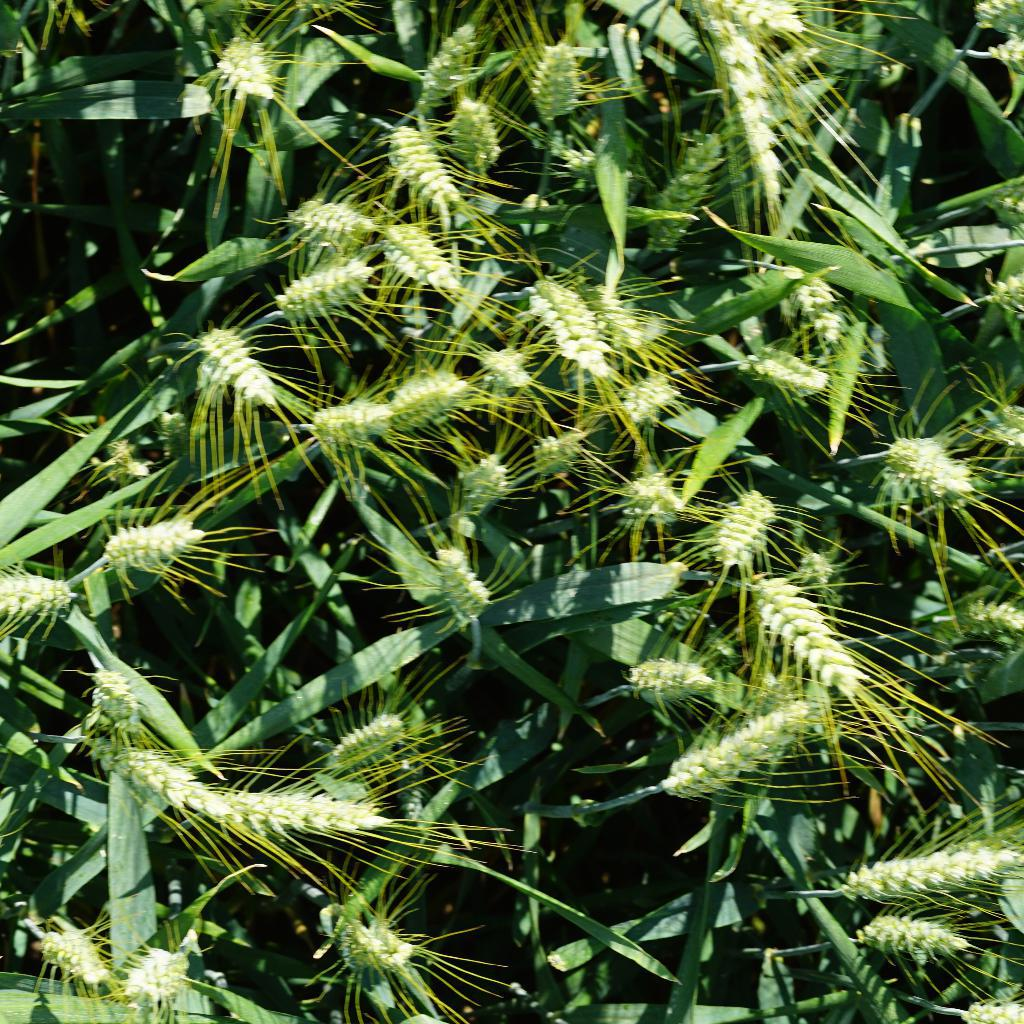0-0: (743, 568, 889, 713), (703, 14, 811, 210), (660, 691, 825, 806), (92, 729, 242, 829), (228, 783, 413, 848), (832, 841, 1024, 903), (637, 125, 729, 254), (382, 118, 479, 225), (190, 317, 286, 415), (372, 216, 475, 303), (838, 907, 991, 965), (94, 513, 225, 578), (202, 27, 290, 122), (526, 280, 612, 377), (258, 253, 385, 318), (325, 697, 425, 773), (885, 432, 983, 508), (424, 540, 506, 629), (739, 339, 841, 406), (441, 93, 518, 176), (417, 15, 488, 105), (789, 261, 858, 352), (709, 489, 790, 565), (522, 36, 593, 122), (38, 912, 115, 991), (303, 395, 411, 451), (382, 367, 471, 433), (343, 904, 425, 975), (610, 363, 695, 428), (295, 189, 384, 250), (452, 437, 520, 516), (668, 0, 814, 36), (0, 570, 82, 634), (539, 135, 634, 189), (123, 938, 198, 1005), (631, 654, 718, 707), (750, 39, 838, 91), (581, 279, 644, 350), (960, 585, 1024, 653), (93, 665, 156, 733), (630, 466, 690, 531), (972, 258, 1024, 327), (481, 340, 538, 396), (533, 429, 587, 488), (980, 169, 1024, 238), (148, 406, 197, 465), (799, 542, 849, 597), (982, 23, 1024, 82), (979, 395, 1024, 450), (96, 436, 138, 489), (704, 629, 745, 676), (975, 0, 1024, 30)
